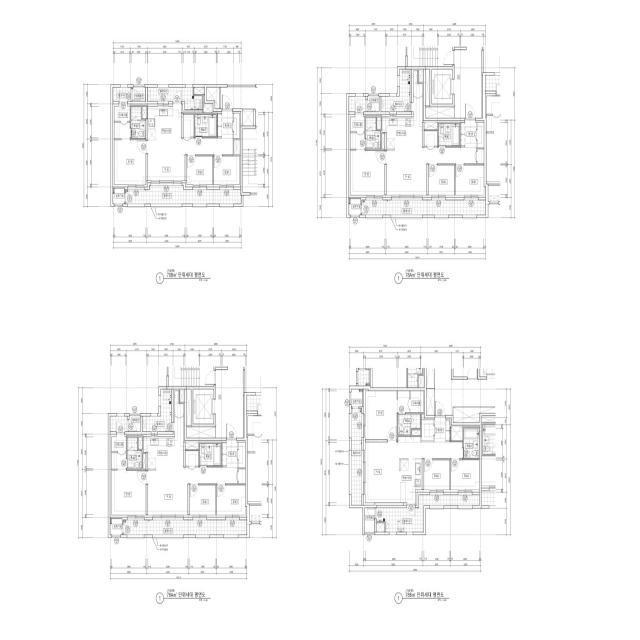space_balconi: (376, 495, 479, 532), (125, 186, 241, 204), (123, 520, 247, 535), (362, 200, 486, 215), (142, 389, 171, 432), (381, 69, 410, 112), (148, 87, 202, 110), (351, 408, 362, 505), (113, 87, 131, 101)
space_bedroom: (350, 150, 385, 195), (365, 391, 397, 439), (112, 470, 146, 515), (114, 140, 146, 184), (455, 165, 484, 195), (217, 485, 245, 515), (451, 460, 479, 490), (424, 460, 450, 490), (190, 485, 216, 515), (187, 156, 213, 185), (429, 165, 454, 195), (214, 156, 239, 185)
space_dressroom: (114, 104, 130, 139), (398, 391, 423, 413), (350, 114, 365, 149), (112, 434, 126, 469)
space_elevator: (193, 389, 214, 424), (432, 70, 453, 104)
space_elevator_hall: (216, 370, 243, 438), (455, 50, 482, 118)
space_front: (222, 439, 238, 467), (217, 111, 233, 138), (461, 119, 476, 147), (435, 417, 450, 442)
space_kitchen: (143, 391, 183, 468), (382, 71, 422, 148), (148, 104, 181, 138), (399, 458, 422, 503)
space_living_room: (365, 437, 463, 503), (148, 467, 238, 515), (387, 147, 476, 195), (148, 138, 233, 181)
space_other: (110, 416, 140, 432), (349, 96, 379, 112), (187, 427, 216, 438), (425, 107, 454, 118), (206, 87, 220, 109), (183, 114, 194, 137), (422, 420, 434, 441), (365, 508, 374, 532), (185, 451, 199, 466), (132, 87, 146, 101), (424, 131, 437, 146), (425, 69, 430, 106), (477, 123, 484, 148), (243, 109, 253, 126), (451, 427, 463, 441), (239, 442, 245, 468), (234, 113, 240, 138), (187, 389, 191, 425), (477, 149, 484, 164), (424, 122, 437, 130), (185, 442, 199, 449), (234, 140, 240, 155), (239, 469, 245, 484), (376, 523, 384, 532), (194, 87, 204, 94), (204, 105, 212, 113), (142, 107, 147, 119), (138, 437, 142, 449), (377, 117, 381, 129), (143, 454, 146, 469), (382, 134, 385, 149), (180, 391, 184, 402), (412, 430, 420, 435), (419, 71, 422, 82)
space_outdoor_room: (351, 389, 363, 407), (113, 188, 124, 204)
space_toilet: (438, 124, 460, 146), (200, 443, 221, 466), (195, 114, 216, 137), (127, 437, 142, 469), (366, 117, 381, 149), (131, 107, 146, 138), (398, 414, 420, 435), (464, 428, 479, 458)
